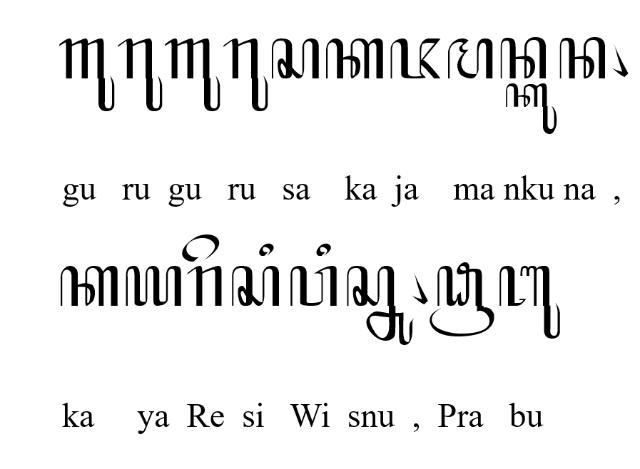Pr: (430, 262, 494, 336)
bu: (499, 266, 561, 340)
e: (182, 234, 220, 262)
gu: (59, 38, 115, 112), (165, 38, 221, 112)
i: (258, 244, 274, 256), (316, 244, 330, 256)
j: (390, 37, 440, 78)
k: (326, 38, 384, 80), (61, 266, 118, 307)
kom: (612, 44, 628, 78), (412, 274, 428, 304)
ku: (506, 84, 556, 134)
m: (448, 39, 492, 79)
n: (500, 37, 546, 79), (560, 37, 606, 79)
r: (188, 266, 222, 307)
ru: (118, 38, 162, 112), (224, 38, 268, 112)
s: (271, 37, 319, 78), (232, 266, 280, 307)
snu: (346, 266, 414, 344)
w: (290, 266, 338, 307)
y: (126, 266, 182, 307)
